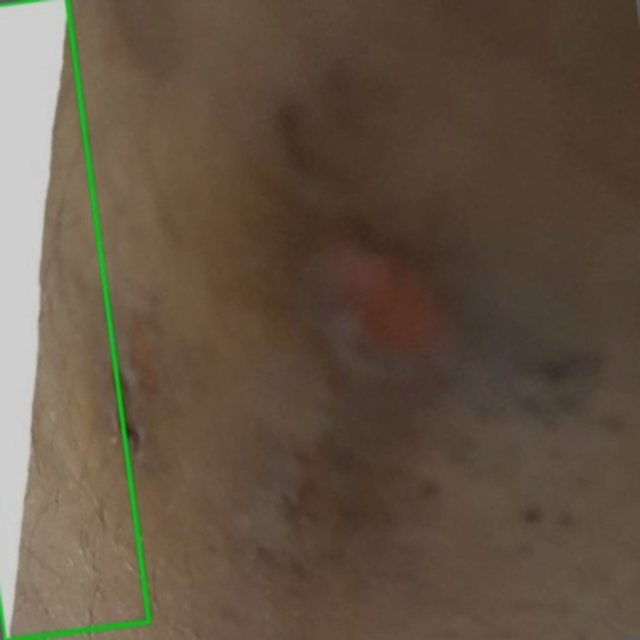Atopic Dermatitis: (0, 0, 148, 639)
